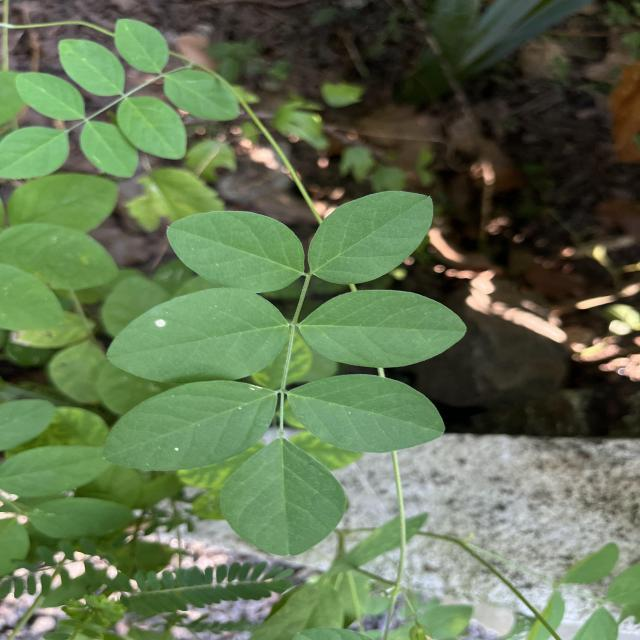Clitoria ternatea: (105, 286, 292, 386), (100, 378, 278, 473), (218, 436, 348, 557), (300, 288, 468, 369), (288, 372, 447, 455), (306, 190, 436, 286), (165, 210, 308, 294)
